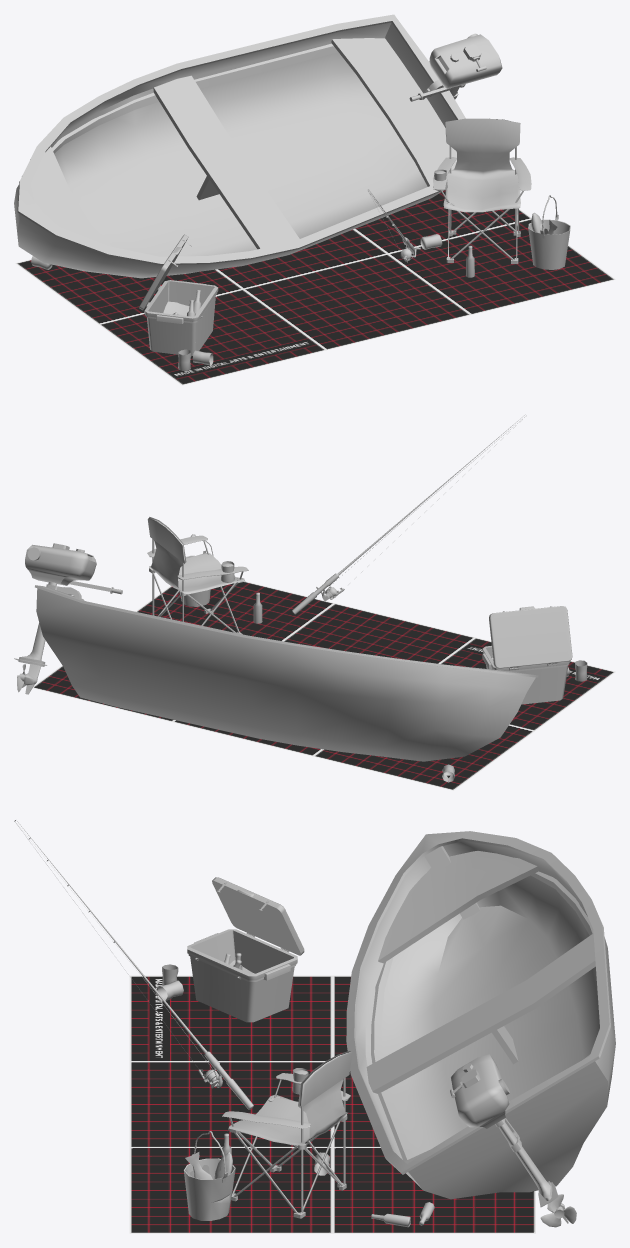
The model's file is boatFe.fbx.
The picture shows the model from 3 angles, top to bottom: view 1: azimuth 30°, elevation 25°; view 2: azimuth 150°, elevation 25°; view 3: azimuth 270°, elevation 25°; orthographic projection. The views are drawn at different scales.
Visible parts, largest first — view 1: pasted__BoatRemap6, pPlane3, pasted__polySurface89, polySurface85, pasted__bucket5, polySurface84; view 2: pasted__BoatRemap6, pPlane3, pasted__polySurface89, polySurface84, polySurface85, pasted__polySurface215; view 3: pasted__BoatRemap6, pPlane3, pasted__polySurface89, polySurface85, polySurface84, pasted__bucket5, pasted__polySurface215.
Part boxes in pixels (left/top/right/bottom): pasted__BoatRemap6: left=14, top=14, right=502, bottom=278; pPlane3: left=15, top=190, right=615, bottom=385; pasted__polySurface89: left=433, top=118, right=531, bottom=263; polySurface85: left=144, top=280, right=218, bottom=356; pasted__bucket5: left=528, top=195, right=570, bottom=269; polySurface84: left=139, top=234, right=188, bottom=310; pasted__BoatRemap6: left=14, top=543, right=538, bottom=761; pPlane3: left=33, top=581, right=615, bottom=790; pasted__polySurface89: left=147, top=517, right=248, bottom=634; polySurface84: left=489, top=606, right=572, bottom=668; polySurface85: left=482, top=646, right=570, bottom=704; pasted__polySurface215: left=292, top=414, right=526, bottom=614; pasted__BoatRemap6: left=346, top=831, right=615, bottom=1227; pPlane3: left=129, top=975, right=535, bottom=1233; pasted__polySurface89: left=222, top=1051, right=352, bottom=1218; polySurface85: left=187, top=929, right=297, bottom=1022; polySurface84: left=212, top=877, right=304, bottom=955; pasted__bucket5: left=183, top=1131, right=235, bottom=1220; pasted__polySurface215: left=14, top=820, right=253, bottom=1109.
Bounding box in the file's own units: 346 × 131 × 296.
